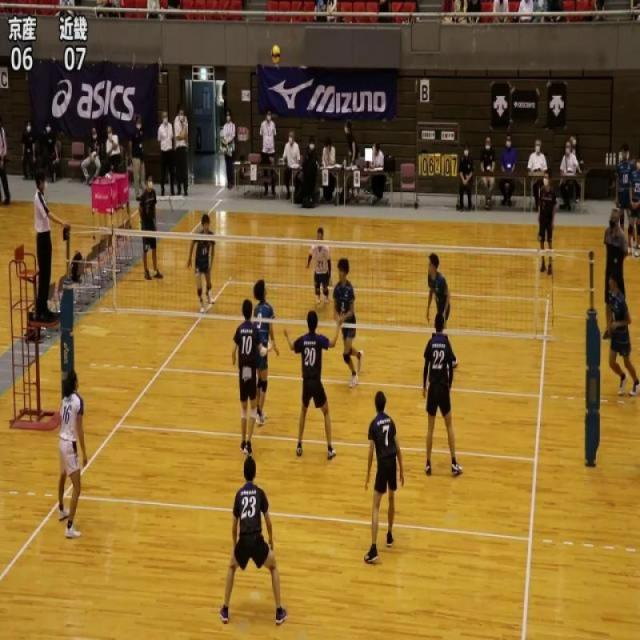volleyball: (270, 44, 281, 65)
